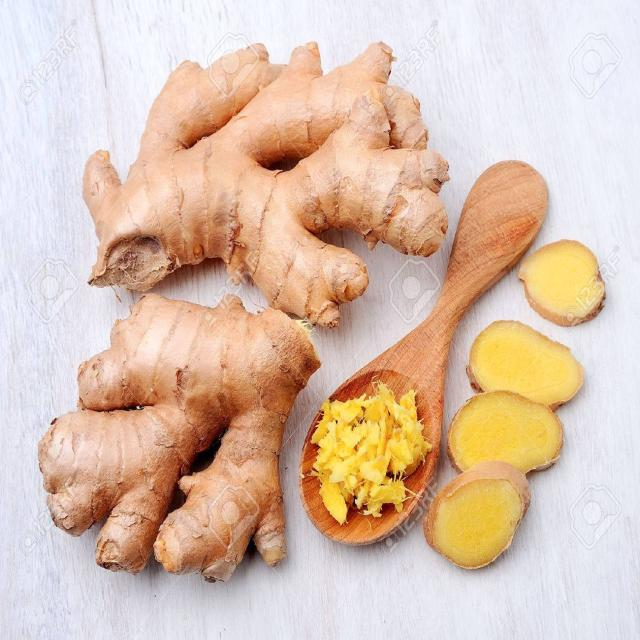ginger-root: (80, 16, 461, 340), (25, 291, 363, 596)
